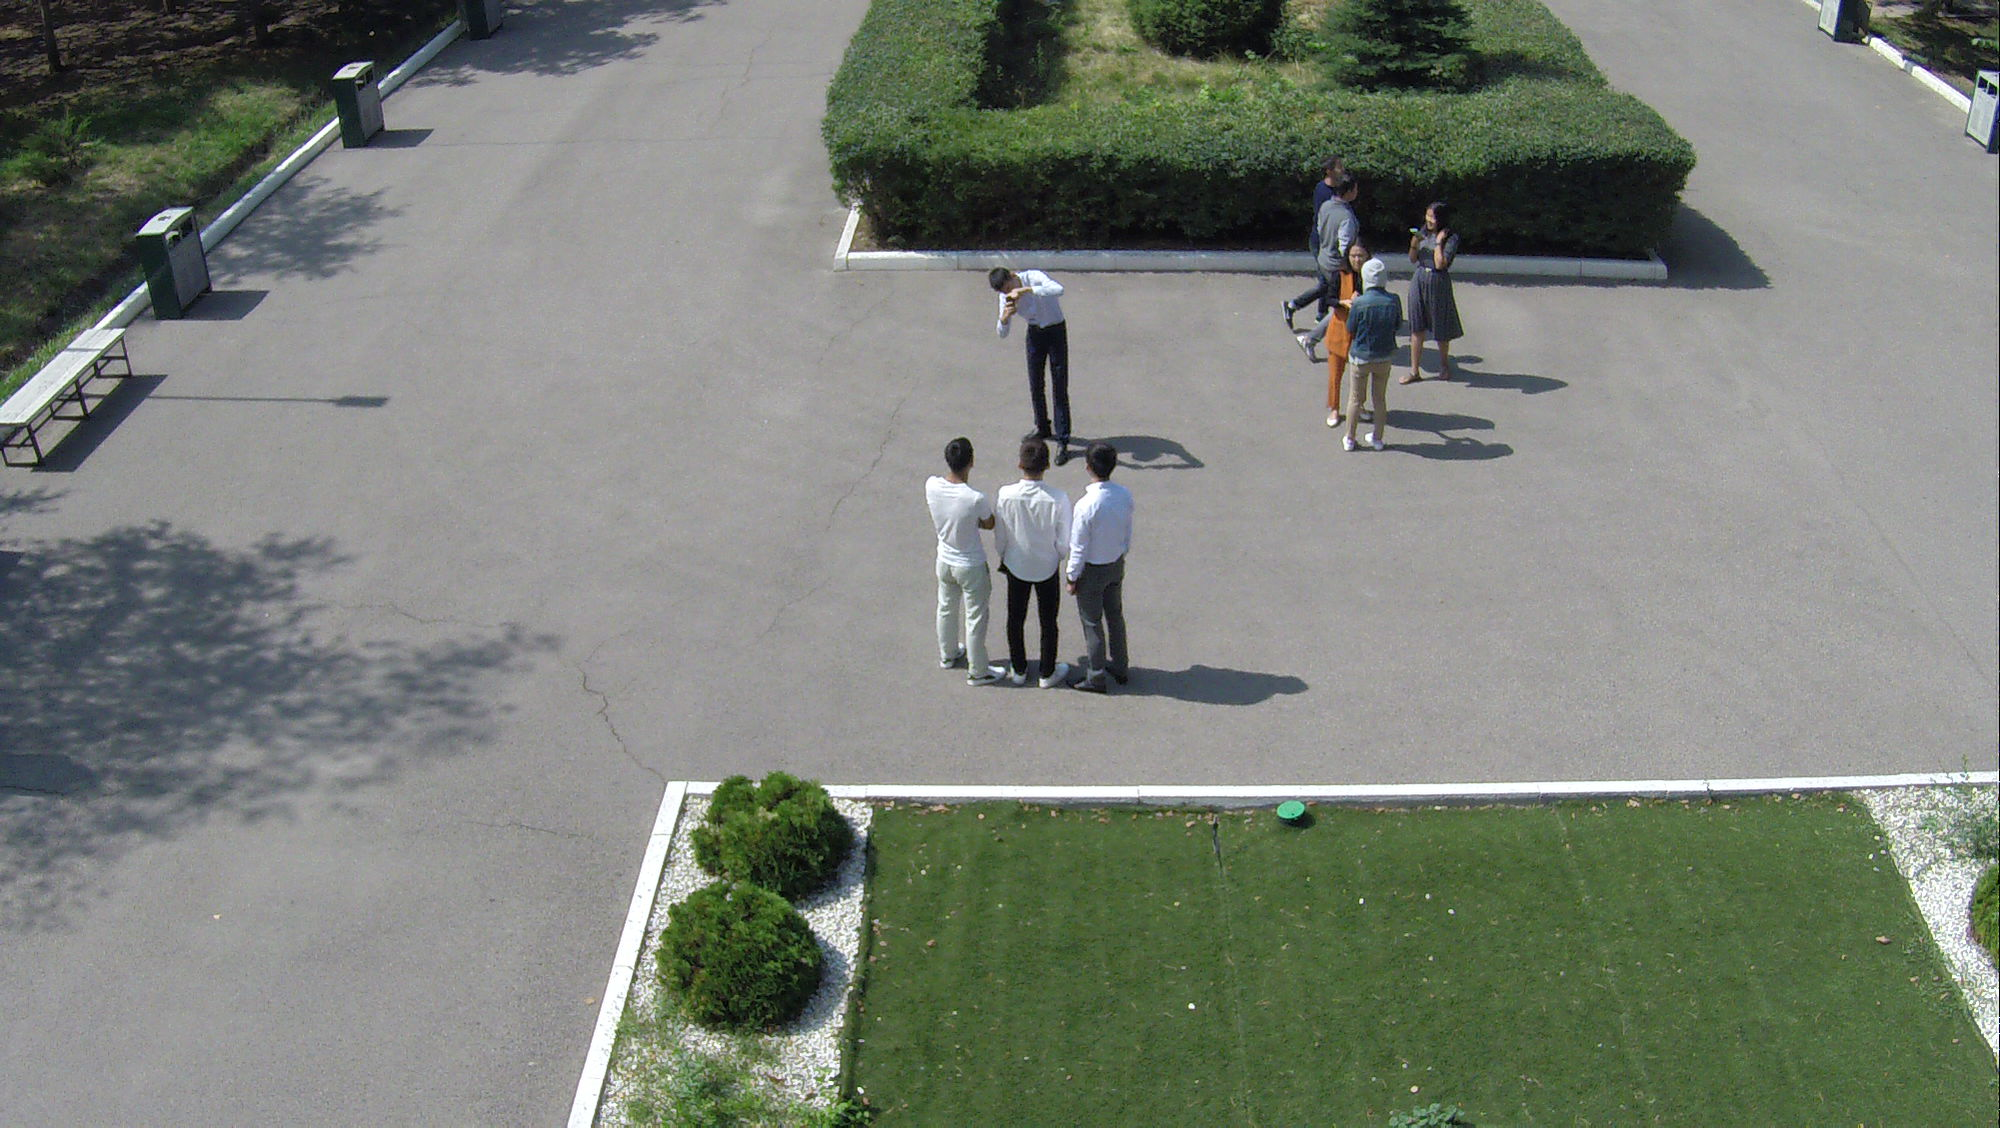person: (922, 426, 1030, 683), (995, 426, 1078, 683), (982, 255, 1080, 470), (1076, 437, 1139, 693), (1403, 218, 1468, 387), (1347, 264, 1401, 455), (1320, 251, 1376, 428), (1314, 178, 1370, 333)
